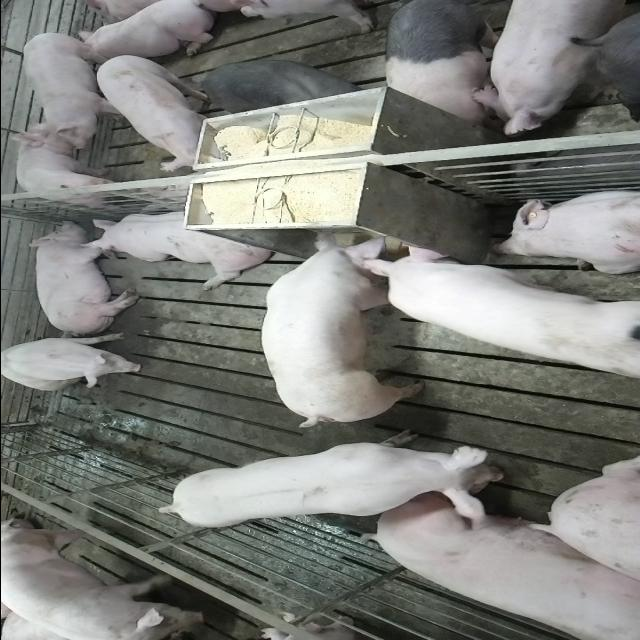Feeding: (360, 240, 636, 386), (257, 232, 421, 432)
Lateral_lying: (22, 222, 140, 338)
Sitting: (0, 334, 147, 390)
Standing: (153, 434, 507, 534), (0, 524, 205, 640), (469, 2, 639, 136), (382, 2, 516, 128), (95, 50, 225, 168), (22, 30, 128, 148), (196, 58, 363, 114), (13, 124, 128, 204), (172, 0, 376, 29), (592, 3, 640, 125)
Sternal_lying: (82, 208, 274, 288), (492, 185, 640, 272), (71, 3, 216, 61)
